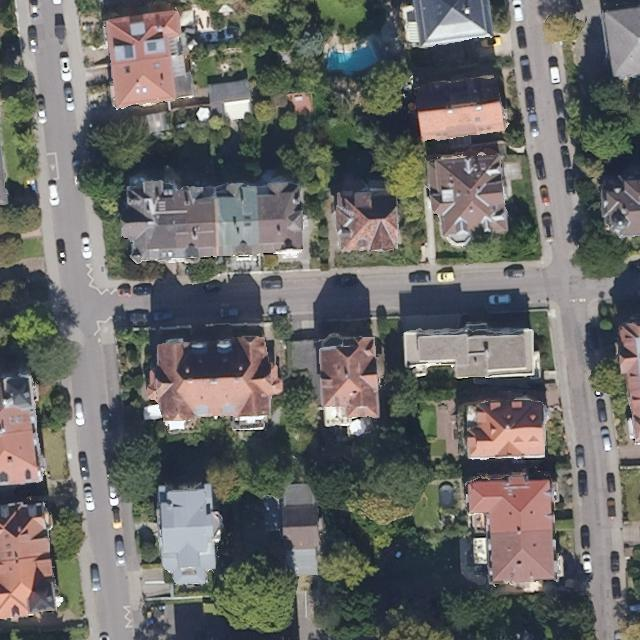PV: (123, 45, 133, 57), (147, 40, 156, 51)
